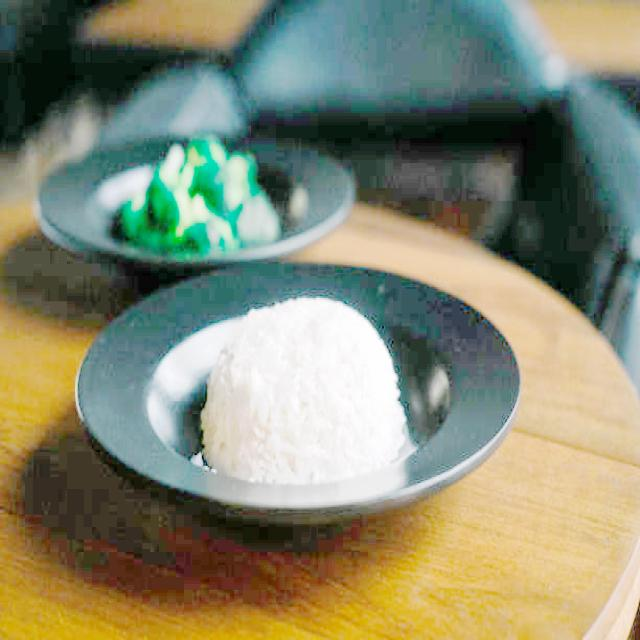rice: (202, 298, 407, 485)
